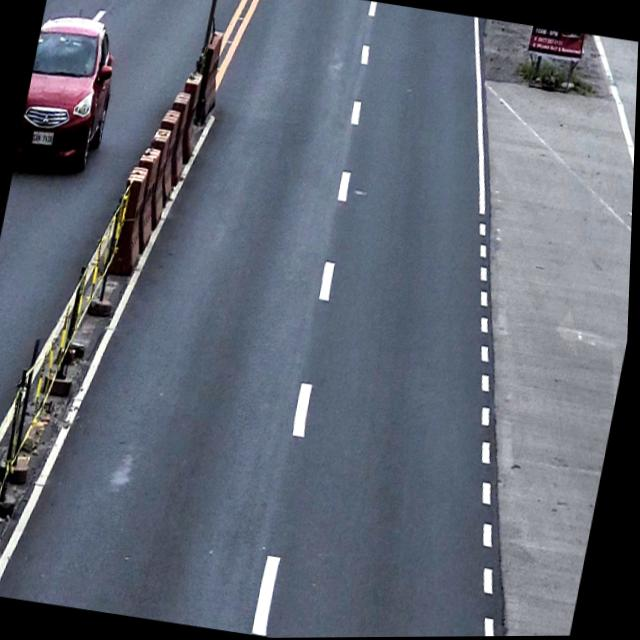Car: (16, 10, 125, 173)
License-Plate: (31, 127, 57, 147)
